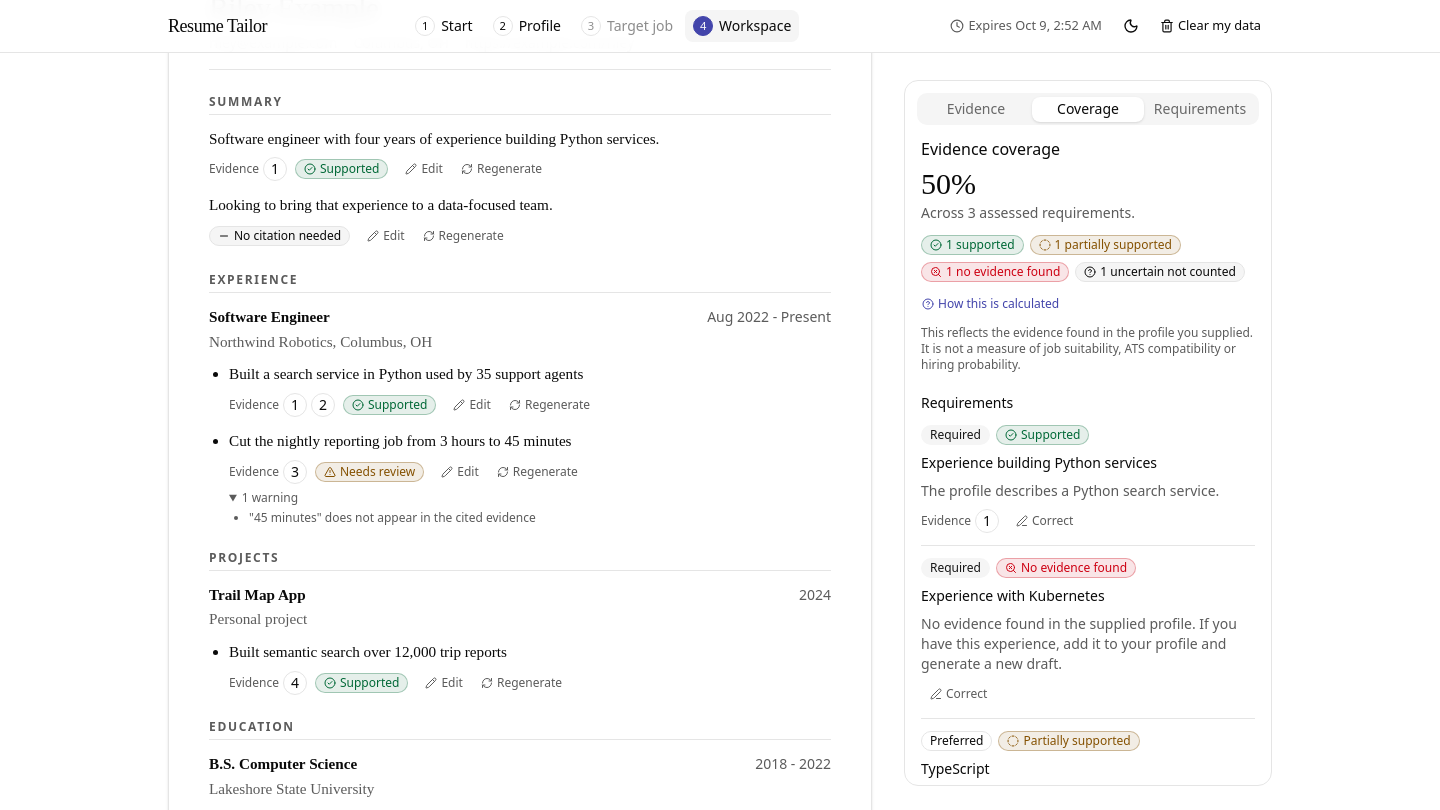
Test: Workspace editing a statement › saves an edit with the expected revision and marks the statement as edited
The width and height of the screenshot is (1440, 810).
(page scrolled)
Expected: the text "Supported" below "Northwind Robotics, Columbus, OH" is shown, [368,396,428,413]
Click the button with aria-label "Edit this statement" at point(472, 405), box [444,393,500,417]
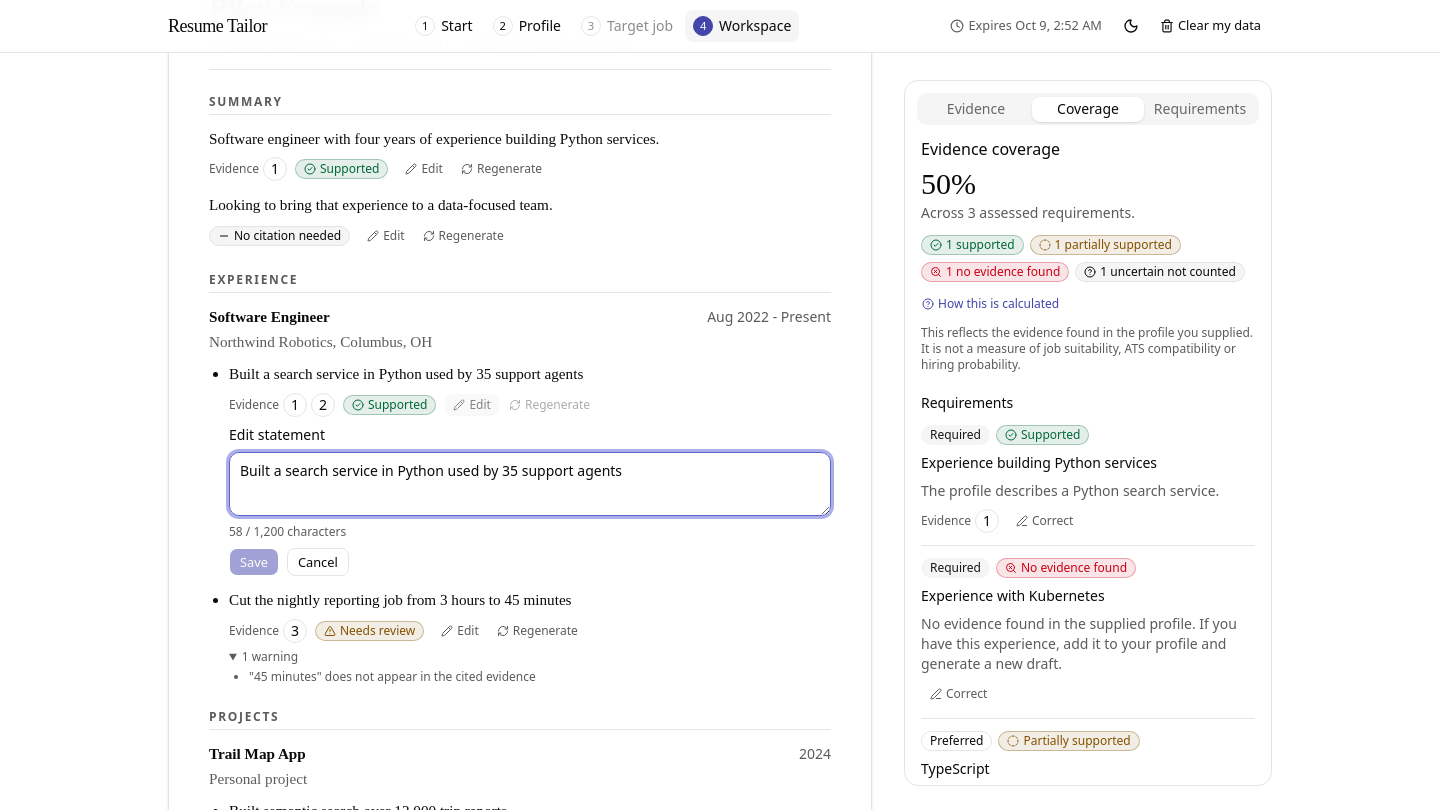
Result: the text box labelled "Edit statement" holds "Built a search service in Python used by 35 support agents"
Result: the button "Save" is disabled at [229,548,279,576]
Clear the text box labelled "Edit statement" at point(530, 484), box [229,452,831,516]
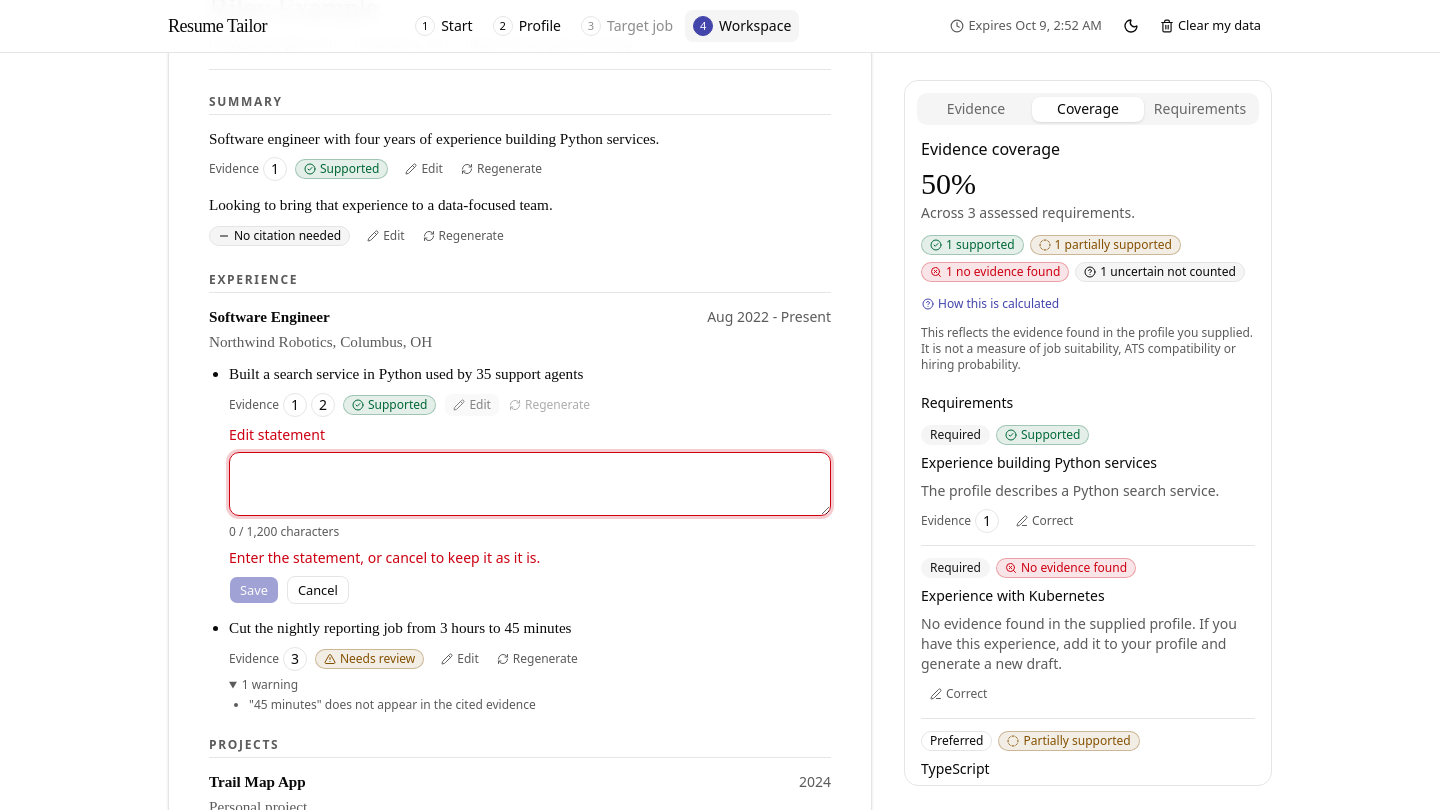
Type keys "Built and operated a Python search service for 35 support agents"
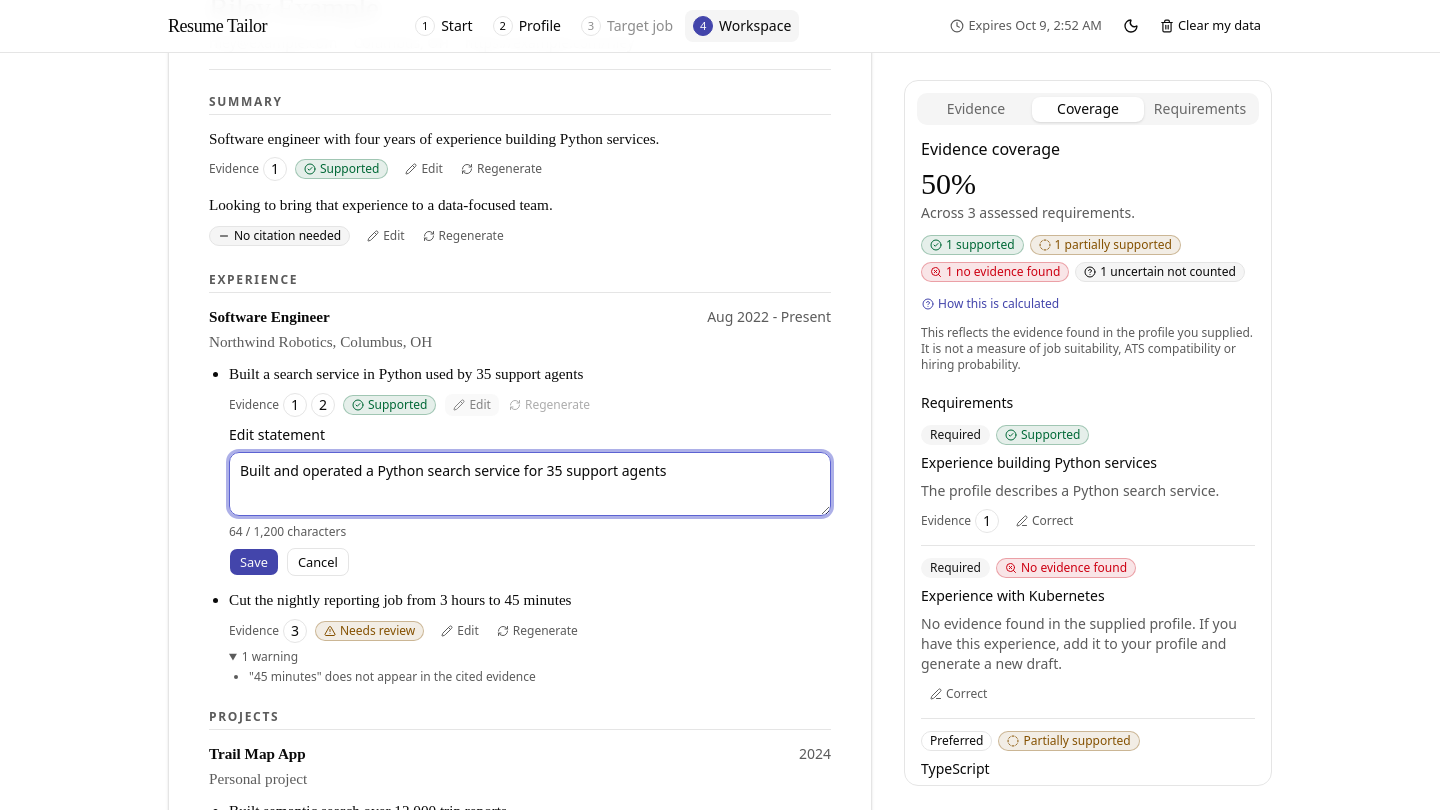
Click the button "Save" at point(254, 562), box [229,548,279,576]
(page scrolled)
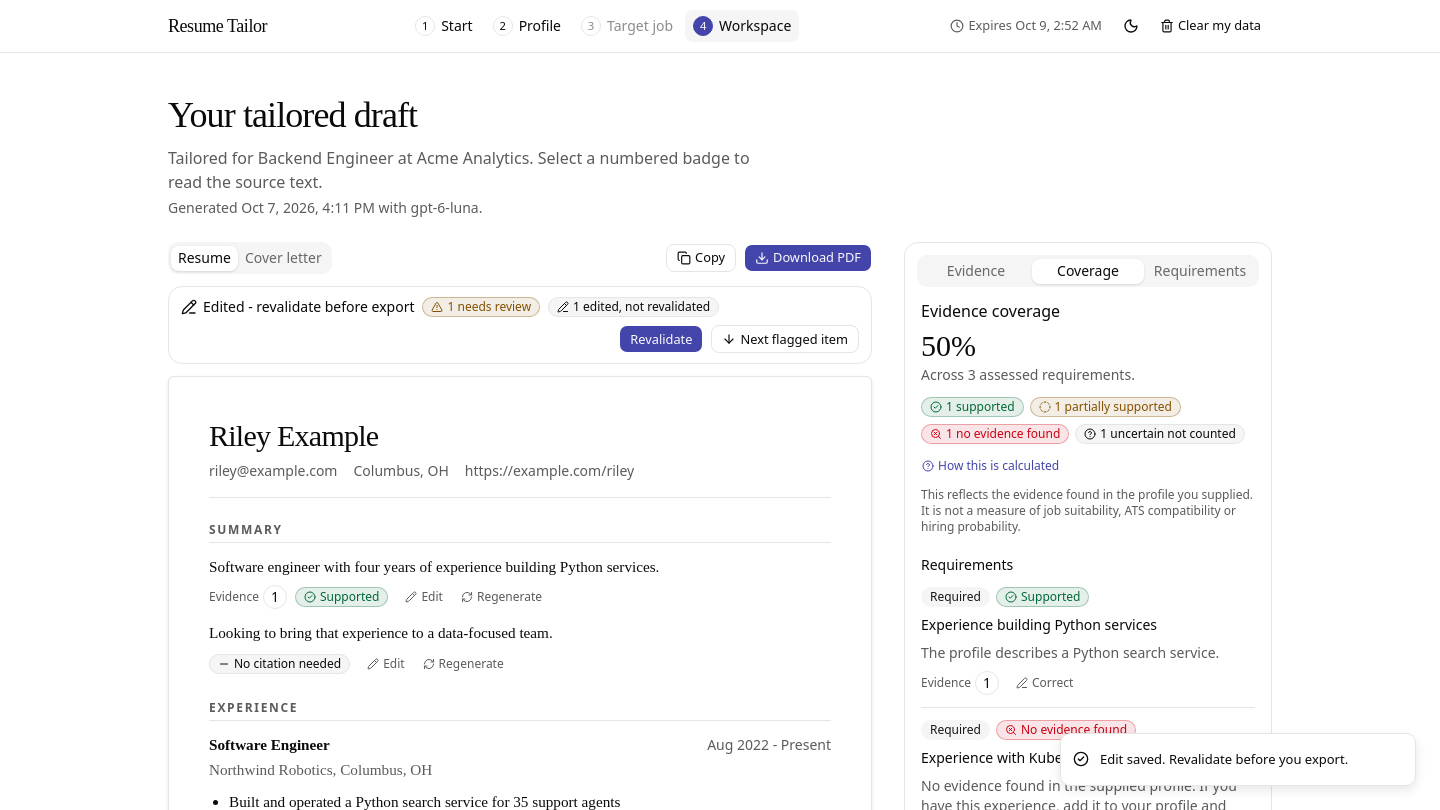
Result: the text "Built and operated a Python search service for 35 support agents" is shown at [229,793,620,809]
Result: the label labelled "Edit statement" is gone
Result: the text "Edited - revalidate before export" is shown at [203,297,414,317]
